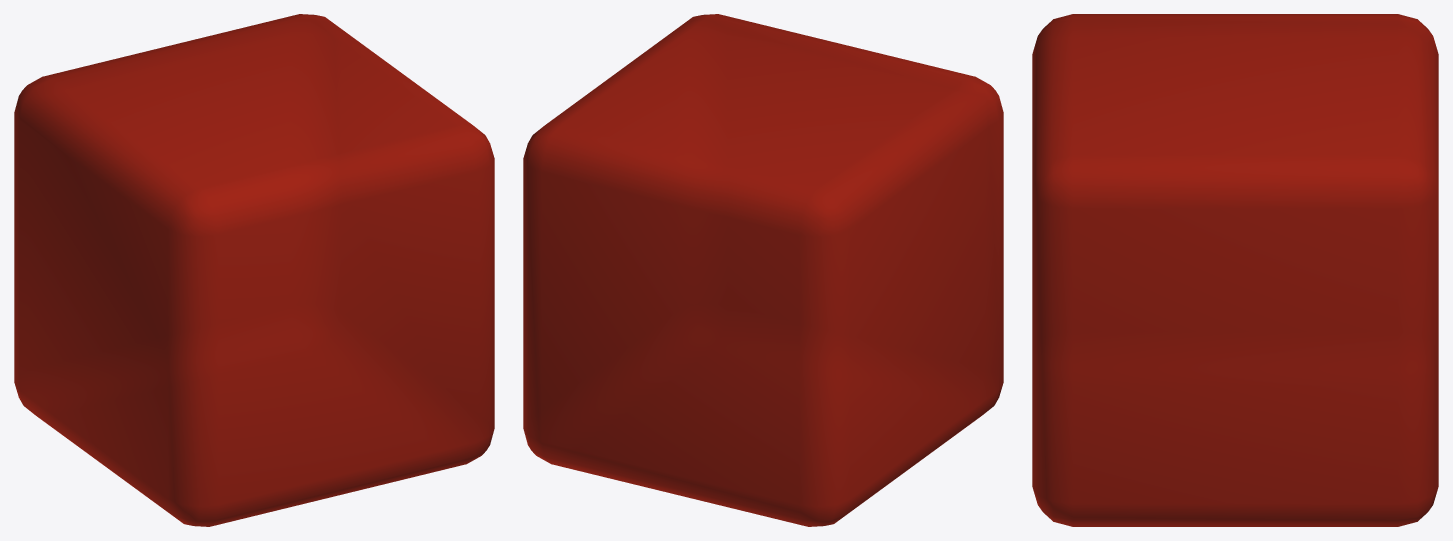
The model's file is gummy_bear_block.fbx.
3 renders of one model, left to right at view 1: azimuth 30°, elevation 25°; view 2: azimuth 150°, elevation 25°; view 3: azimuth 270°, elevation 25°, orthographic. The views are drawn at different scales.
Visible parts, largest first — view 1: gummy_bear_block; view 2: gummy_bear_block; view 3: gummy_bear_block.
Part boxes in pixels (x1=…): gummy_bear_block: x1=14, y1=14, x2=494, y2=526; gummy_bear_block: x1=523, y1=14, x2=1003, y2=526; gummy_bear_block: x1=1032, y1=14, x2=1438, y2=526.
Size of the model in its own units: 20 by 20 by 20.
